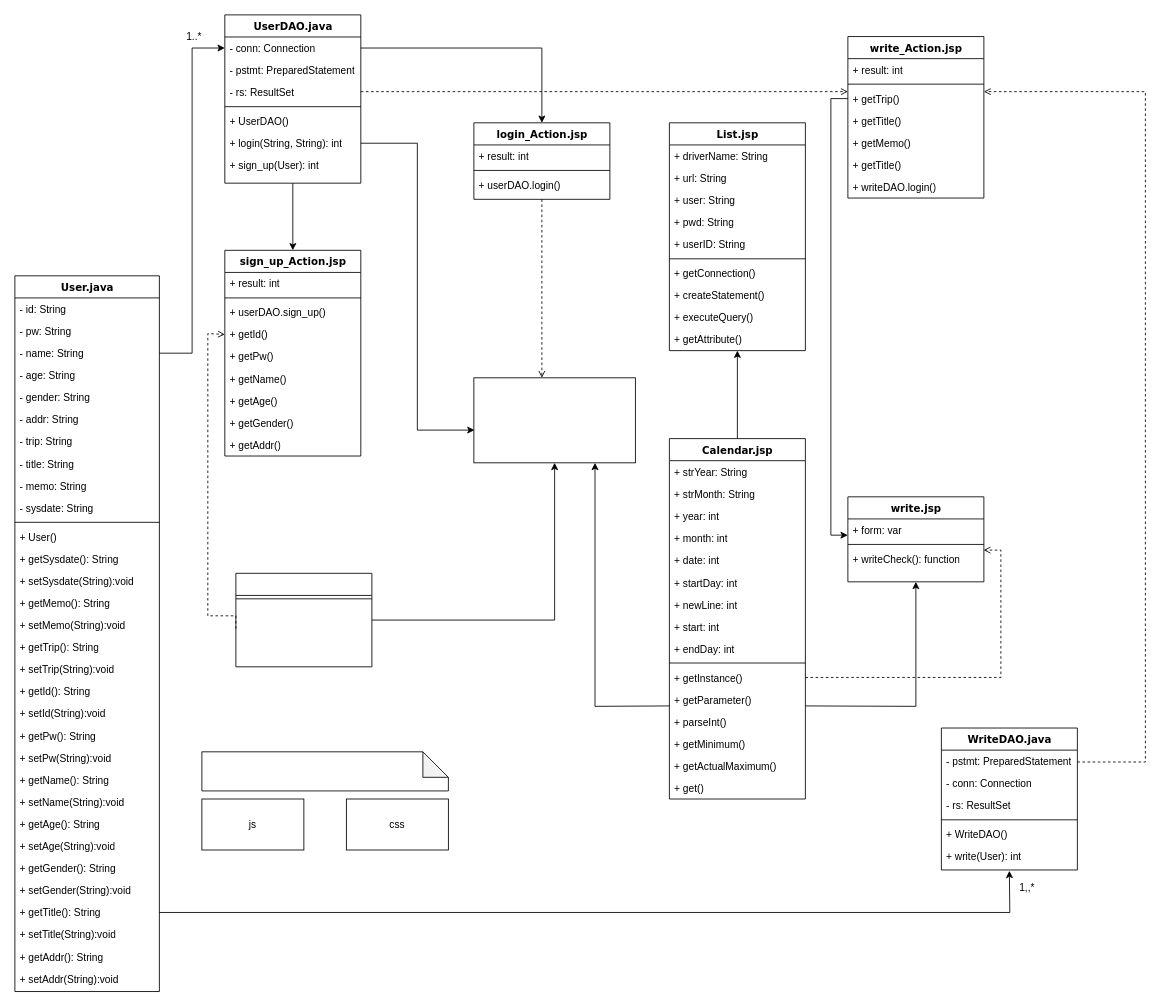
Image size: 1167x1007. Some labels were removed from this diagram. Each missing label, with the centre of its shape:
<<Interface>> main.jsp: pixel 554 420
css와 js로 부트트랩을 이용할 수 있다.: pixel 324 771
sign_up.jsp: pixel 303 619
